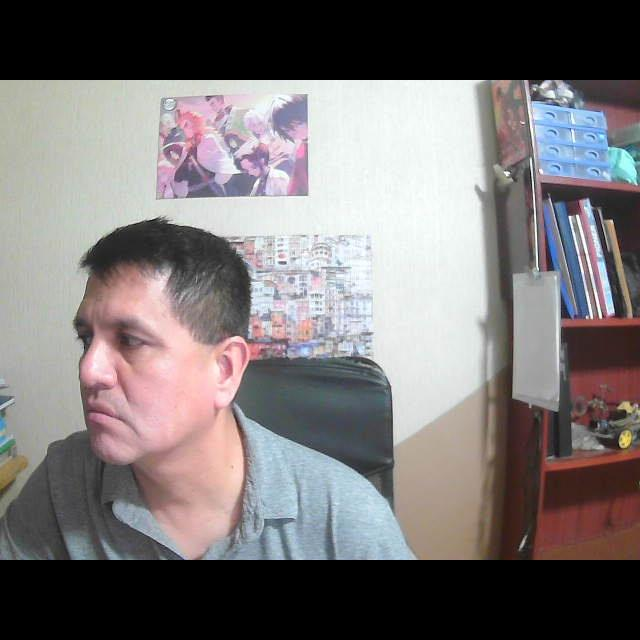cesar: (53, 205, 271, 500)
